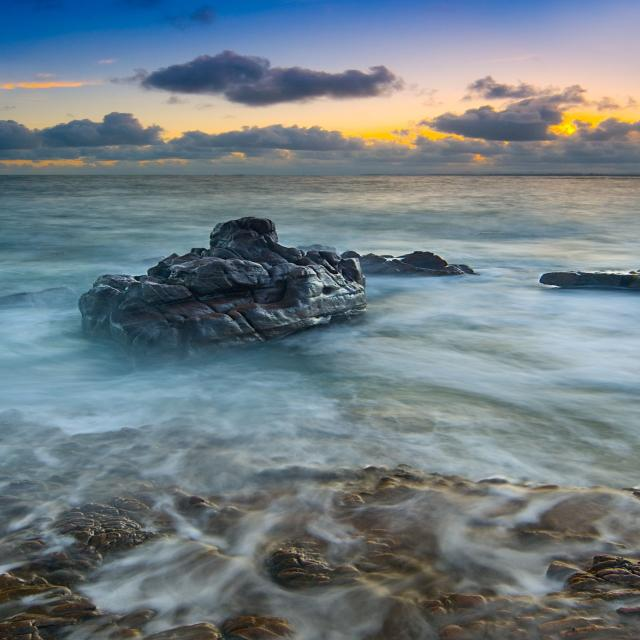reef: (63, 201, 364, 354)
